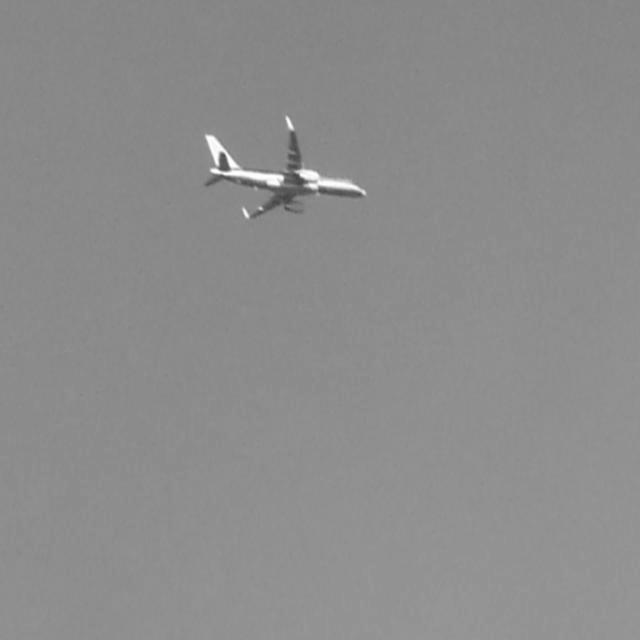aeroplane: (200, 115, 372, 227)
